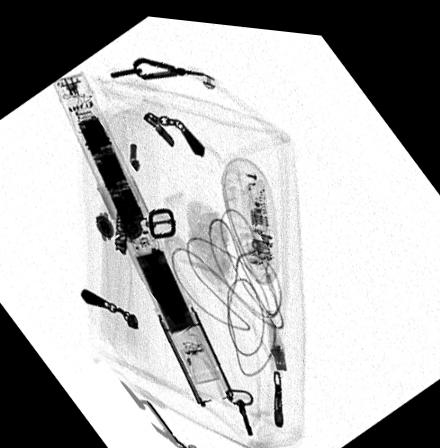Baton: (50, 68, 236, 403)
